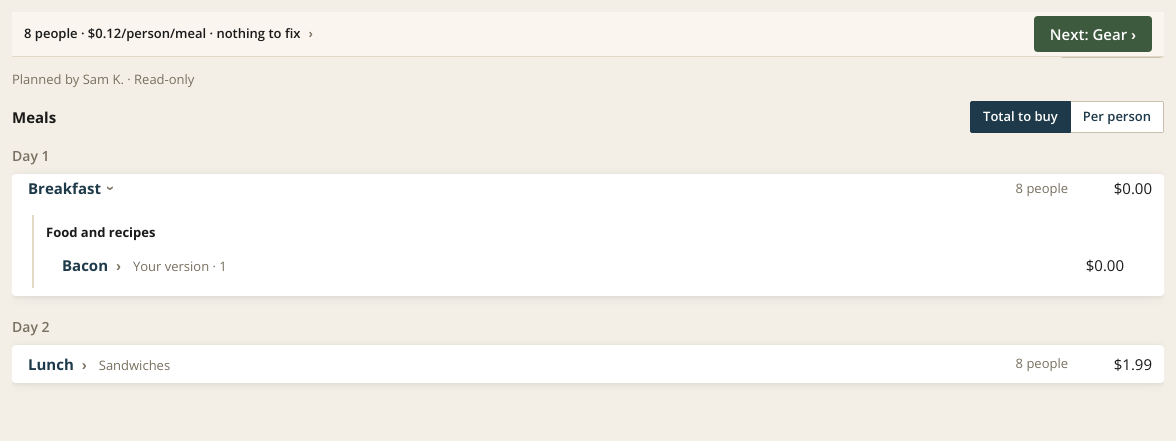
Test: A meal open inline, read-only: the scouts own edits › Leader_SeesLeftOutOnTheRow_TheScoutDropped
Click the button "Bacon ›" at {"x": 92, "y": 265}, box [62,254,121,276]
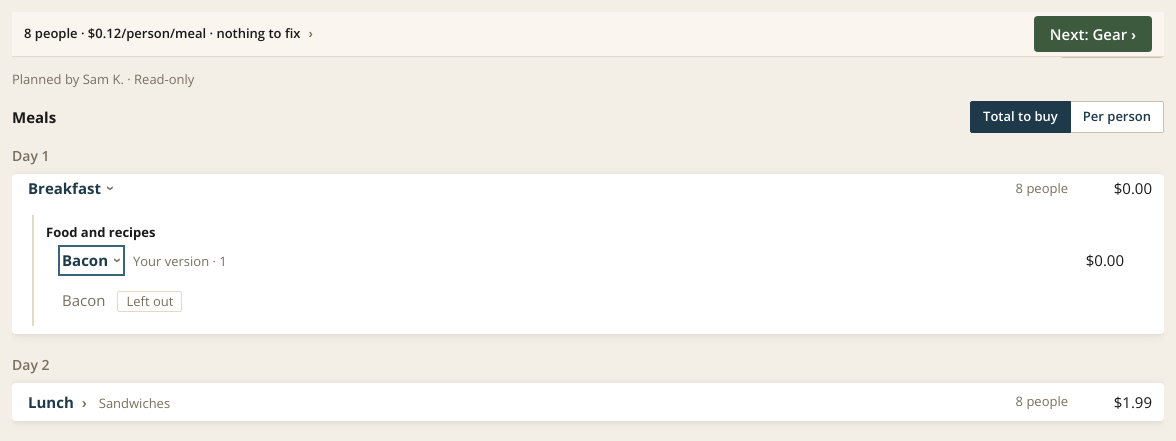
Check: the text "Left out" is shown, box [117,290,182,312]
